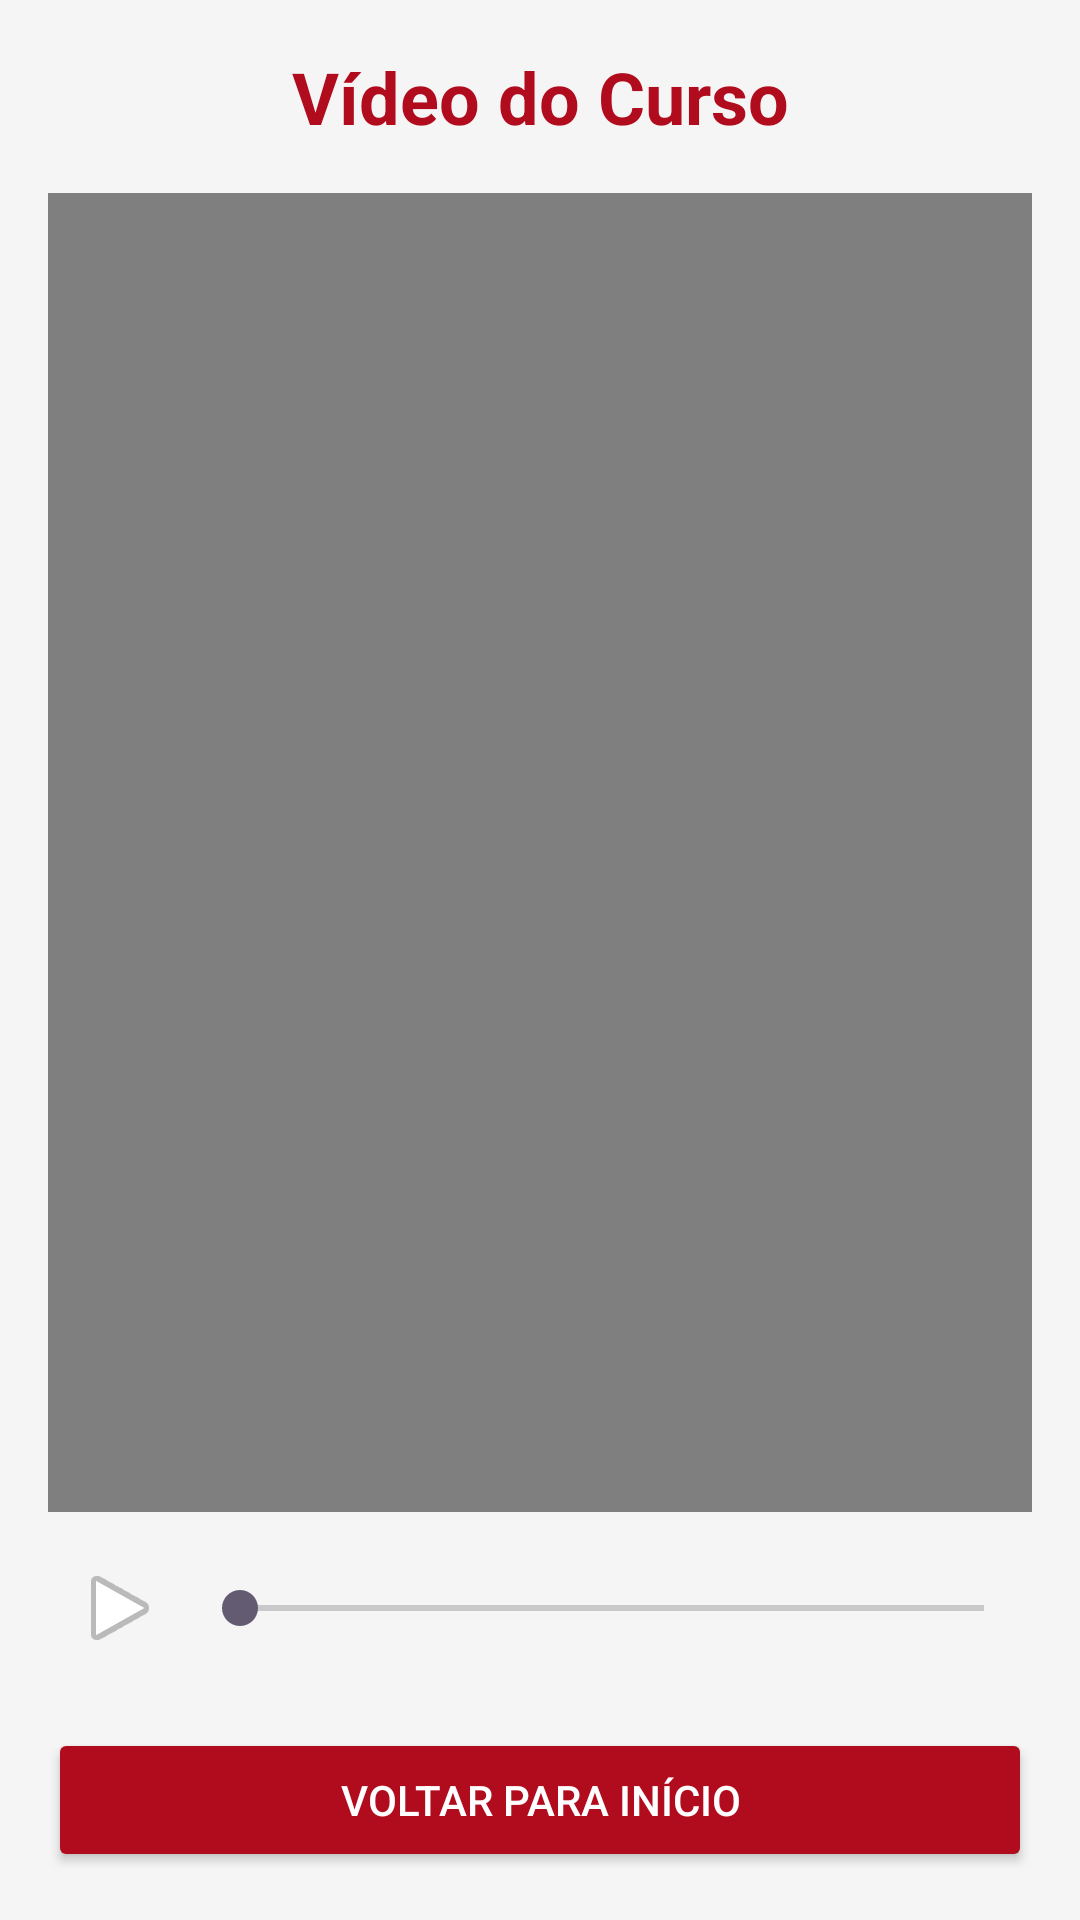

Locate icon controls on the screen. Image size 1080x1920, boxes as (x1, y1, x2, y2).
play: (91, 1576, 149, 1640)
